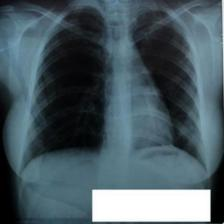tuberculosis: (21, 3, 209, 177)
